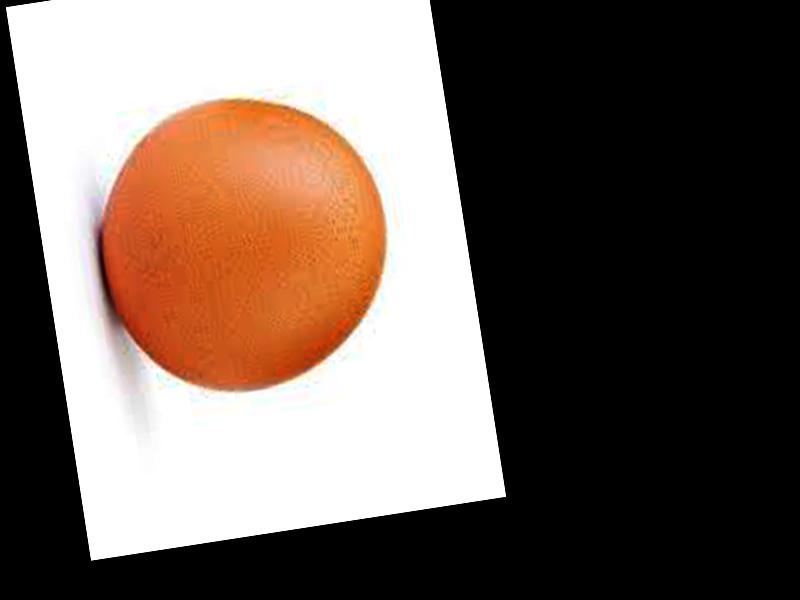Eggs: (83, 80, 402, 408)
